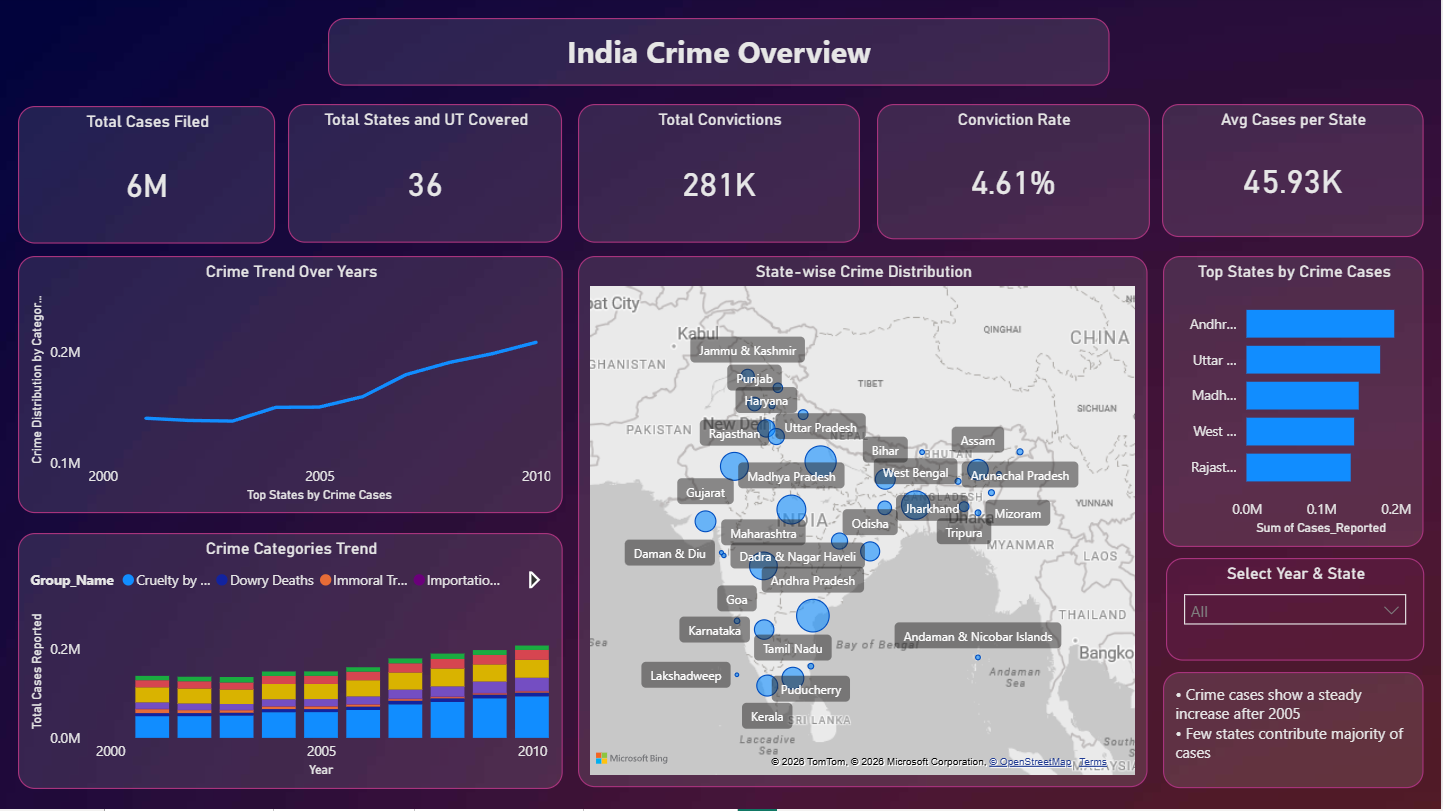

The page's visual inventory and layout, read from the dashboard file:
{"tool":"powerbi","page":{"name":"Overall Crime Overview","canvas":[1280,720],"ordinal":0},"visuals":[{"type":"card","title":"Total Cases Filed","fields":{"Values":["Sum(CrimeData.Total_Cases_for_Trial)"]},"box":[18.3,96.7,228.3,121.7],"z":0},{"type":"card","title":"Total Convictions","fields":{"Values":["CrimeData.Total Convictions"]},"box":[515,95,250,123.3],"z":1000},{"type":"card","title":"Conviction Rate","fields":{"Values":["CrimeData.Conviction Rate"]},"box":[780,95,241.7,120],"z":2000},{"type":"card","title":"Total States and UT Covered","fields":{"Values":["Count(CrimeData.Area_Name)"]},"box":[258.3,95,243.3,123.3],"z":3000},{"type":"lineChart","title":"Crime Trend Over Years","fields":{"Category":["CrimeData.Year"],"Y":["Sum(CrimeData.Cases_Reported)"]},"box":[18.3,230,483.3,228.3],"z":4000},{"type":"columnChart","title":"Crime Categories Trend","fields":{"Category":["CrimeData.Year"],"Series":["CrimeData.Group_Name"],"Y":["Sum(CrimeData.Cases_Reported)"]},"box":[18.3,475,483.3,226.7],"z":5000},{"type":"slicer","title":"Select Year & State","fields":{"Values":["CrimeData.Area_Name","CrimeData.Year"]},"box":[1036.2,497.5,228.8,91.2],"z":6000},{"type":"clusteredBarChart","title":"Top States by Crime Cases ","fields":{"Category":["CrimeData.Area_Name"],"Y":["Sum(CrimeData.Cases_Reported)"]},"box":[1033.8,230,231.2,257.5],"z":7000},{"type":"textbox","box":[293.3,18.3,693.3,60],"z":8000},{"type":"card","title":"Avg Cases per State","fields":{"Values":["CrimeData.Avg Cases per State"]},"box":[1033.3,95,231.7,118.3],"z":9000},{"type":"map","title":"State-wise Crime Distribution","fields":{"Size":["Sum(CrimeData.Cases_Reported)"],"Category":["CrimeData.Area_Name"]},"box":[515,230,505,471.2],"z":10000},{"type":"textbox","box":[1033.8,598.8,231.2,102.5],"z":11000}]}

Visuals, with their boxes in screenshot pixels (x1, y1, x2, y2), scaled from the page's 1280x720 canvas onto the 1443x811 screenshot:
"Total Cases Filed" card: 21:109:278:246
"Total Convictions" card: 581:107:862:246
"Conviction Rate" card: 879:107:1152:242
"Total States and UT Covered" card: 291:107:565:246
"Crime Trend Over Years" lineChart: 21:259:565:516
"Crime Categories Trend" columnChart: 21:535:565:790
"Select Year & State" slicer: 1168:560:1426:663
"Top States by Crime Cases " clusteredBarChart: 1165:259:1426:549
textbox: 331:21:1112:88
"Avg Cases per State" card: 1165:107:1426:240
"State-wise Crime Distribution" map: 581:259:1150:790
textbox: 1165:674:1426:790
